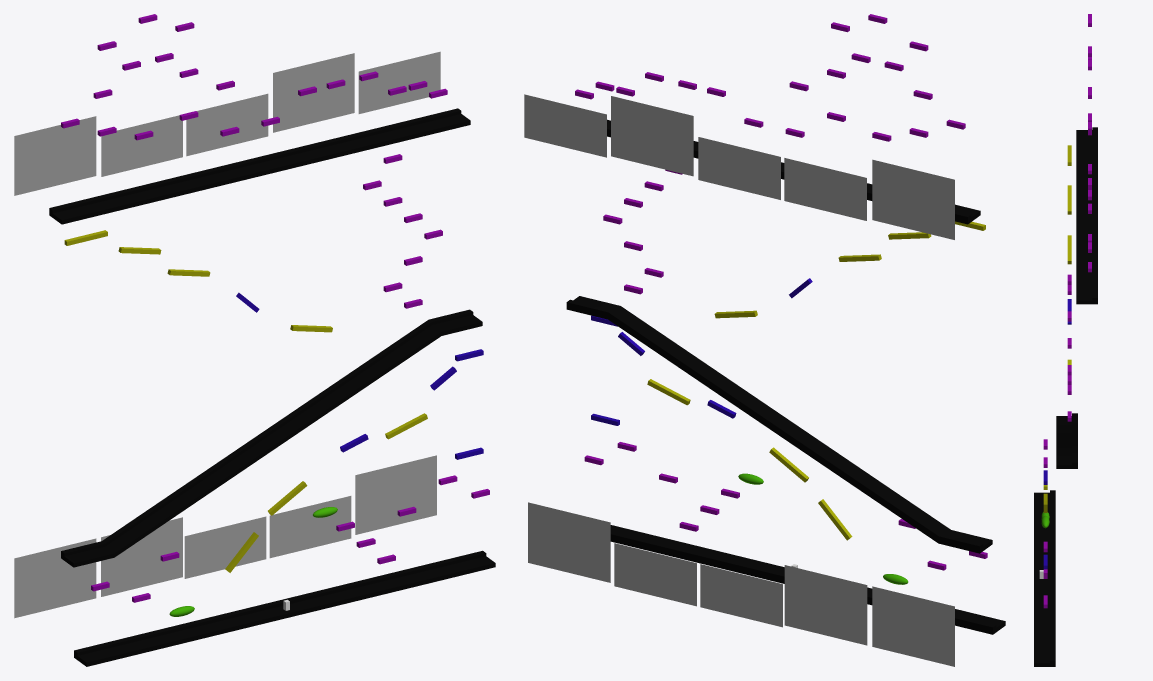
File: porototipo fase 2D.fbx
3 renders of one model, left to right at view 1: azimuth 30°, elevation 25°; view 2: azimuth 150°, elevation 25°; view 3: azimuth 270°, elevation 25°, orthographic. The views are drawn at different scales.
Parts seen in each view (by area): view 1: chao_segundo_andar, chao_terceiro_andar, chao_primeiro_andar, pPlane10, pPlane2, pPlane8, pPlane5, pPlane4, pPlane7, pPlane9, pPlane1, pPlane3 (+2 smaller); view 2: chao_segundo_andar, pPlane4, pPlane10, pPlane8, pPlane5, pPlane2, chao_primeiro_andar, pPlane3, pPlane11, pPlane1, pPlane9, pPlane7 (+2 smaller); view 3: chao_terceiro_andar, chao_primeiro_andar, chao_segundo_andar, plataformas_3x0_5.
Part boxes in pixels (left/top/right/bottom): chao_segundo_andar: left=61, top=309, right=482, bottom=567; chao_terceiro_andar: left=49, top=108, right=470, bottom=224; chao_primeiro_andar: left=74, top=550, right=495, bottom=666; pPlane10: left=14, top=116, right=96, bottom=195; pPlane2: left=355, top=455, right=436, bottom=534; pPlane8: left=273, top=53, right=354, bottom=132; pPlane5: left=14, top=538, right=96, bottom=618; pPlane4: left=101, top=517, right=182, bottom=596; pPlane7: left=101, top=115, right=182, bottom=176; pPlane9: left=186, top=93, right=268, bottom=156; pPlane1: left=269, top=496, right=351, bottom=558; pPlane3: left=184, top=516, right=266, bottom=578; chao_segundo_andar: left=566, top=296, right=992, bottom=553; pPlane4: left=784, top=565, right=867, bottom=645; pPlane10: left=872, top=159, right=954, bottom=239; pPlane8: left=611, top=96, right=693, bottom=176; pPlane5: left=872, top=586, right=954, bottom=666; pPlane2: left=528, top=502, right=610, bottom=582; chao_primeiro_andar: left=610, top=525, right=1005, bottom=634; pPlane3: left=700, top=564, right=782, bottom=627; pPlane11: left=524, top=94, right=606, bottom=157; pPlane1: left=614, top=543, right=696, bottom=606; pPlane9: left=698, top=137, right=780, bottom=199; pPlane7: left=784, top=158, right=866, bottom=220; chao_terceiro_andar: left=1076, top=127, right=1097, bottom=304; chao_primeiro_andar: left=1034, top=490, right=1055, bottom=666; chao_segundo_andar: left=1056, top=413, right=1077, bottom=468; plataformas_3x0_5: left=1043, top=299, right=1071, bottom=569.
Bounding box in the file's own units: 104 × 141 × 25.97.
